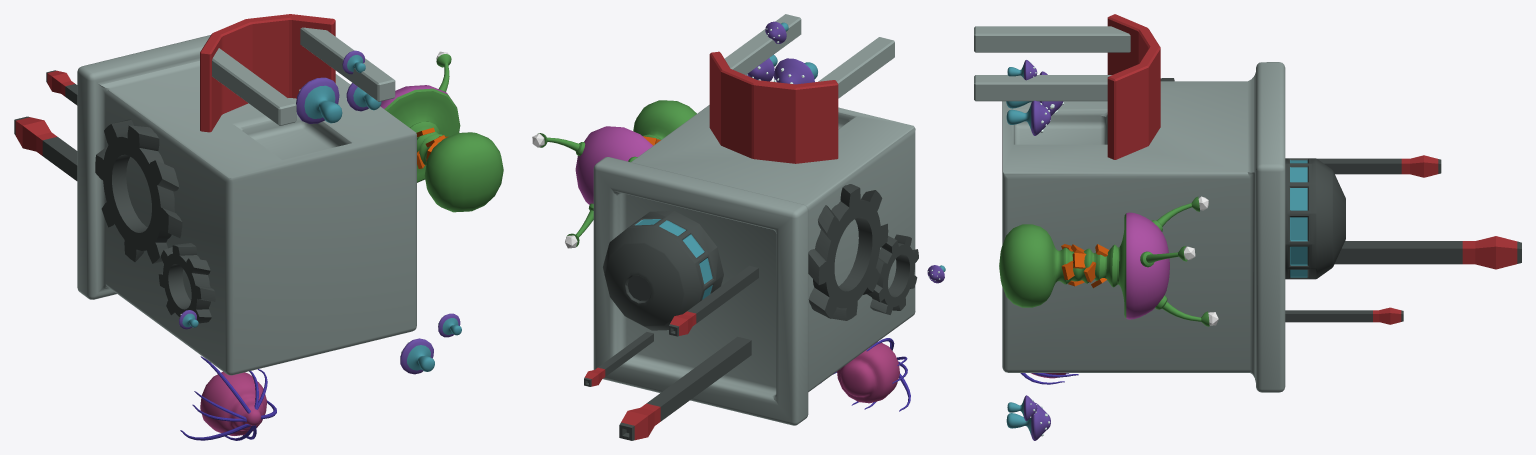
Rendered from Building_Plants_Harvest.fbx.
3 views of the same model, side by side, from view 1: azimuth 30°, elevation 25°; view 2: azimuth 150°, elevation 25°; view 3: azimuth 270°, elevation 25° (orthographic). The views are drawn at different scales.
Visible parts, largest first — view 1: Building_Plants_Harvest; view 2: Building_Plants_Harvest; view 3: Building_Plants_Harvest.
Part boxes in pixels (box(x1,y1,x2,y2)): Building_Plants_Harvest: box(14, 14, 503, 440); Building_Plants_Harvest: box(532, 14, 945, 440); Building_Plants_Harvest: box(974, 14, 1521, 440).
Bounding box in the file's own units: 1.28 × 1.28 × 1.71.
